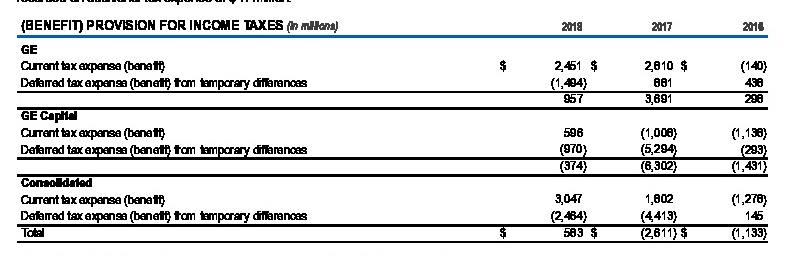table: (0, 0, 785, 258)
